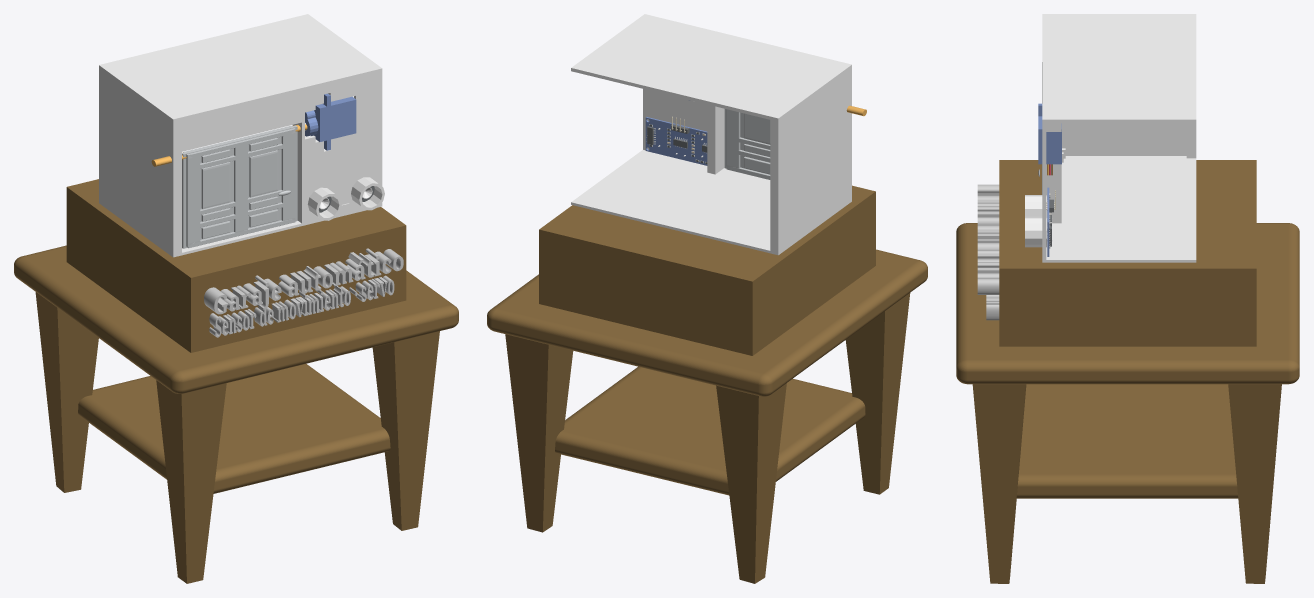
File: garaje.glb
3 views of the same model, side by side, from view 1: azimuth 30°, elevation 25°; view 2: azimuth 150°, elevation 25°; view 3: azimuth 270°, elevation 25° (orthographic). The views are drawn at different scales.
Visible parts, largest first — view 1: Mesh_Mesh_head_geo.001_lambert2SG.001, Mesh_Mesh_head_geo.001_lambert2SG.002; view 2: Mesh_Mesh_head_geo.001_lambert2SG.001, Mesh_Mesh_head_geo.001_lambert2SG.002; view 3: Mesh_Mesh_head_geo.001_lambert2SG.001, Mesh_Mesh_head_geo.001_lambert2SG.002.
Boxes of the visible parts, <box> form: Mesh_Mesh_head_geo.001_lambert2SG.001: <box>14,179,458,583</box>; Mesh_Mesh_head_geo.001_lambert2SG.002: <box>99,14,384,257</box>; Mesh_Mesh_head_geo.001_lambert2SG.001: <box>487,185,927,583</box>; Mesh_Mesh_head_geo.001_lambert2SG.002: <box>571,14,866,255</box>; Mesh_Mesh_head_geo.001_lambert2SG.001: <box>956,160,1299,583</box>; Mesh_Mesh_head_geo.001_lambert2SG.002: <box>1025,14,1196,262</box>.
Size of the model in its own units: 3.64 by 5.37 by 3.64.
